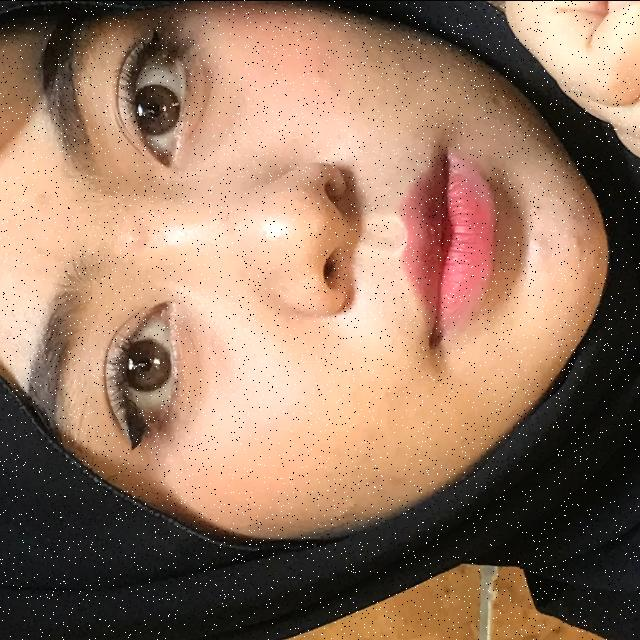sedih: (336, 0, 640, 350)
